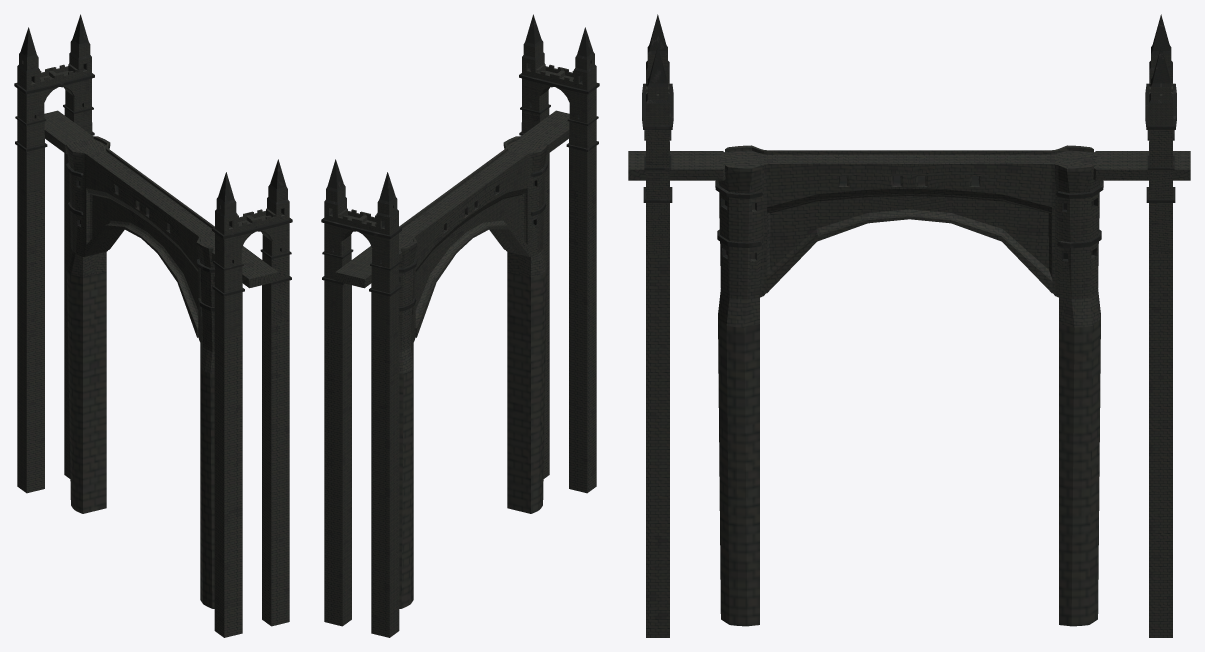
File: Bridge.fbx
3 renders of one model, left to right at view 1: azimuth 30°, elevation 25°; view 2: azimuth 150°, elevation 25°; view 3: azimuth 270°, elevation 25°, orthographic. The views are drawn at different scales.
Visible parts, largest first — view 1: InitialBridge_Applied_Baked; view 2: InitialBridge_Applied_Baked; view 3: InitialBridge_Applied_Baked.
Boxes of the visible parts, bbox=[...] form: InitialBridge_Applied_Baked: bbox=[14, 14, 292, 637]; InitialBridge_Applied_Baked: bbox=[321, 14, 599, 637]; InitialBridge_Applied_Baked: bbox=[628, 14, 1190, 637].
Bounding box in the file's own units: 7298 × 46524 × 40342.
